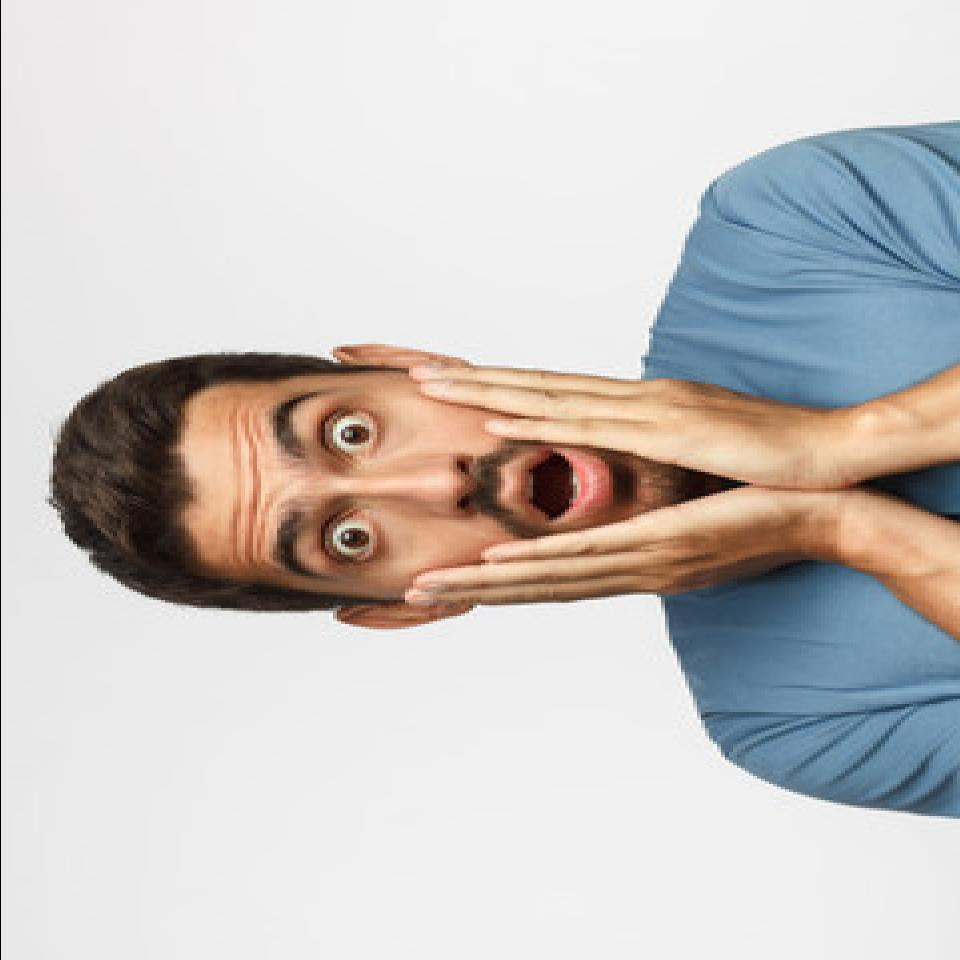Scared: (184, 369, 740, 599)
